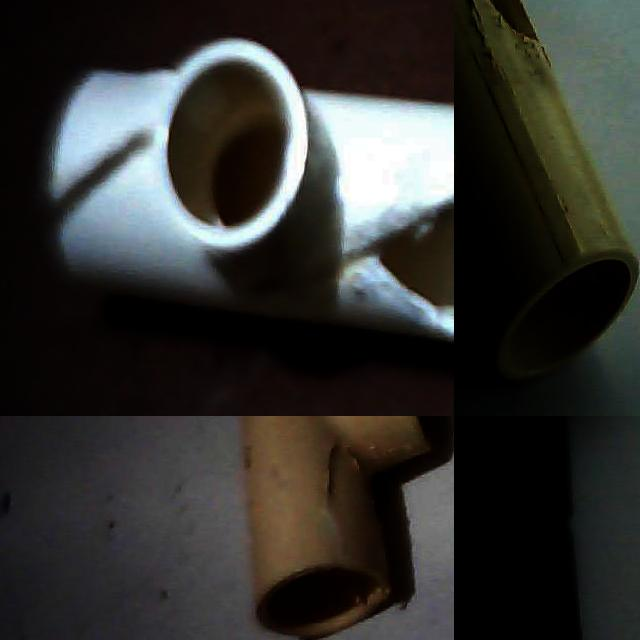Defective: (336, 139, 454, 375), (43, 70, 150, 274), (323, 434, 374, 573), (454, 0, 543, 46)
T Joint: (38, 38, 454, 346), (454, 0, 640, 385), (241, 416, 430, 640)
